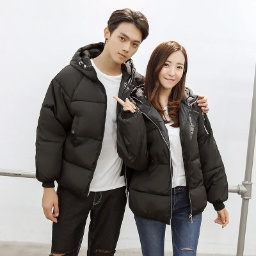face: (143, 39, 194, 125), (99, 2, 147, 69)
